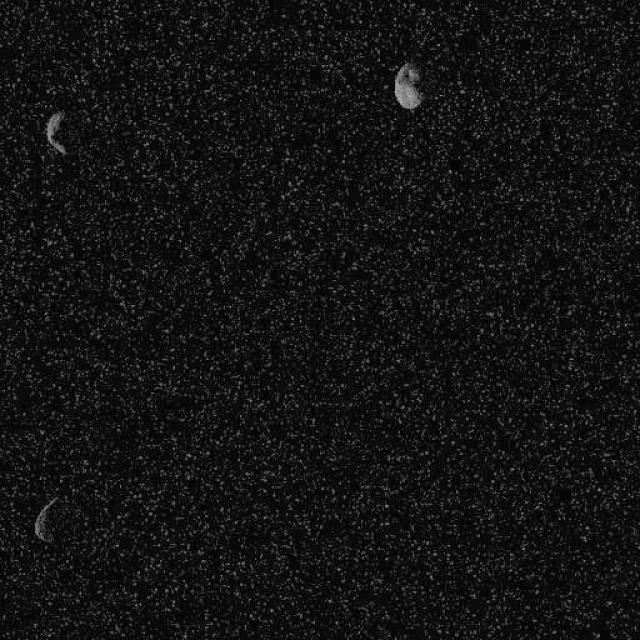D2: (393, 60, 425, 110), (32, 495, 60, 544), (44, 110, 68, 156)
